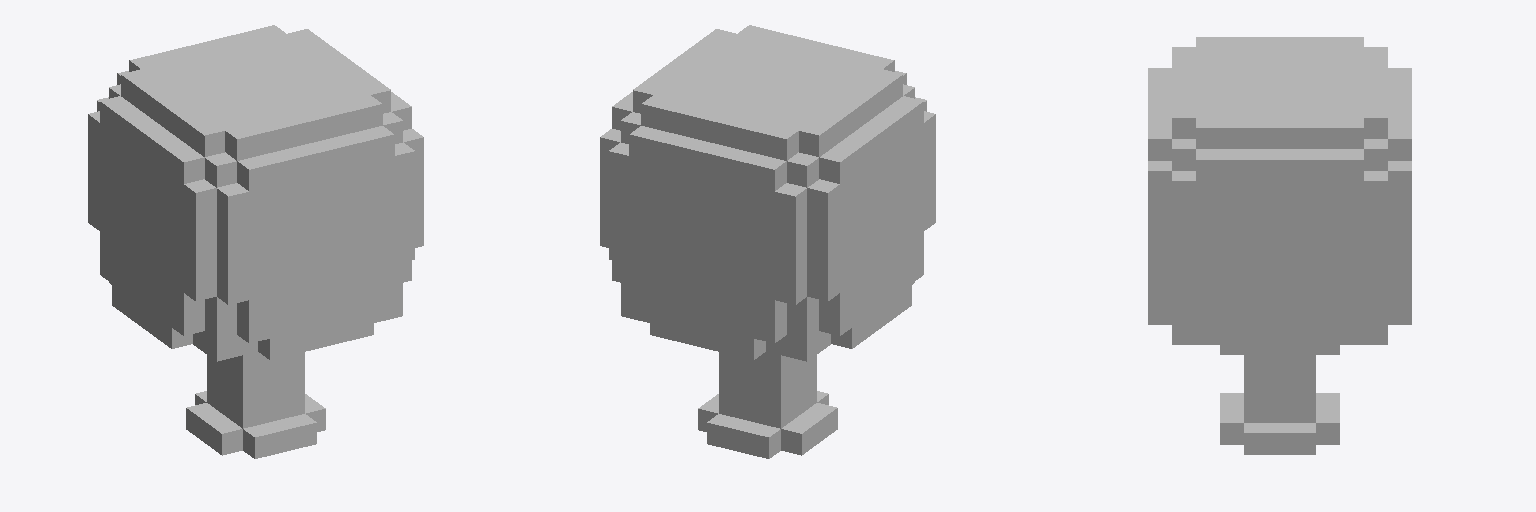
Rendered from Oak Tree Medium.obj.
The picture shows the model from 3 angles: view 1: azimuth 30°, elevation 25°; view 2: azimuth 150°, elevation 25°; view 3: azimuth 270°, elevation 25°; orthographic projection.
Visible parts, largest first — view 1: object 1; view 2: object 1; view 3: object 1.
Part boxes in pixels (x1,y1,x2,y2): object 1: (88,25,423,458); object 1: (600,25,935,458); object 1: (1148,37,1411,454).
Size of the model in its own units: 1.1 by 1.6 by 1.1.